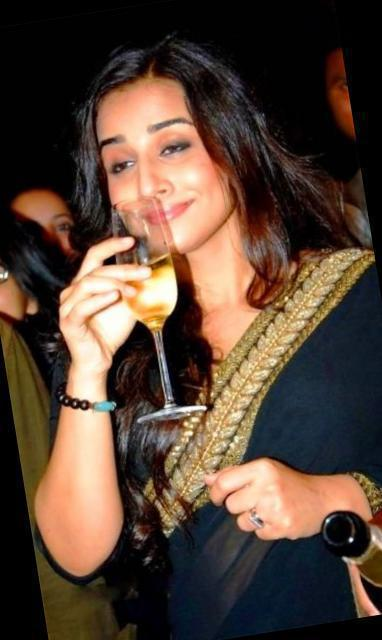Drunk: (92, 85, 224, 252)
